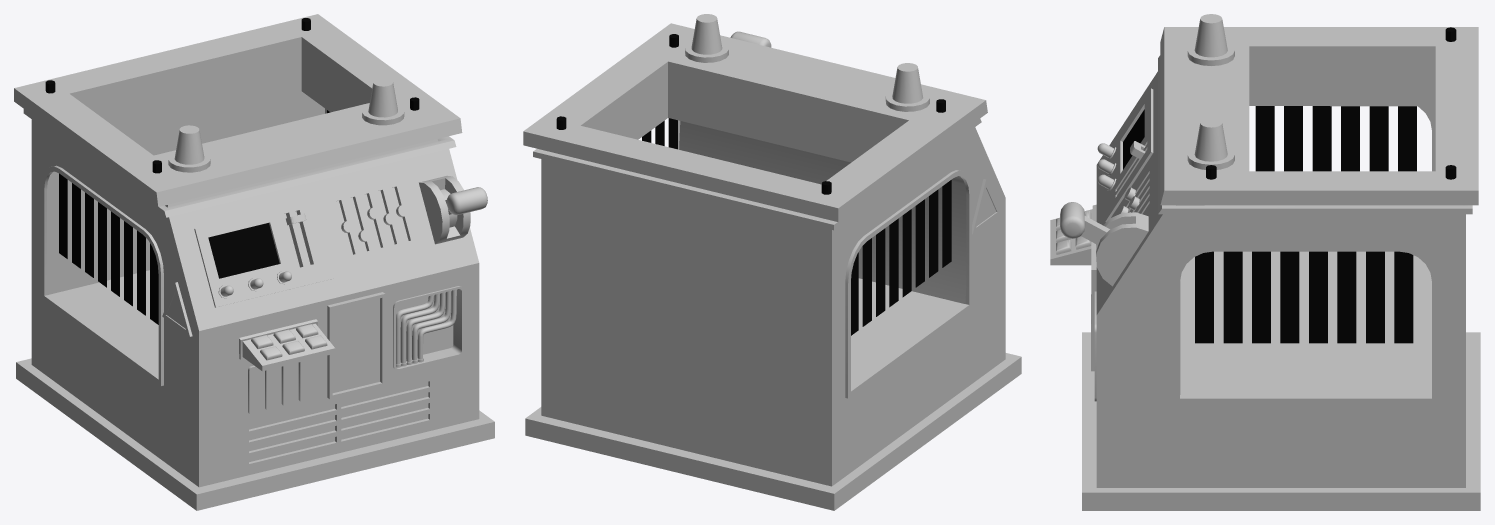
The model's file is Machn_v2_6.fbx.
3 renders of one model, left to right at view 1: azimuth 30°, elevation 25°; view 2: azimuth 150°, elevation 25°; view 3: azimuth 270°, elevation 25°, orthographic. The views are drawn at different scales.
Parts seen in each view (by area): view 1: Machn_v2_6, Plane_1.006, AlertOrange.017, AlertOrange.018, Pc_11; view 2: Machn_v2_6, Plane_1.006, AlertOrange.017, AlertOrange.018, Plane_2.006; view 3: Machn_v2_6, Plane_2.006, Plane_1.006, AlertOrange.017, AlertOrange.018, Pc_11.
Boxes of the visible parts, <box> form: Machn_v2_6: <box>14,14,494,510</box>; Plane_1.006: <box>59,173,158,324</box>; AlertOrange.017: <box>168,125,210,172</box>; AlertOrange.018: <box>362,78,404,125</box>; Pc_11: <box>445,187,487,215</box>; Machn_v2_6: <box>523,23,1021,510</box>; Plane_1.006: <box>851,180,951,335</box>; AlertOrange.017: <box>885,63,929,111</box>; AlertOrange.018: <box>685,14,728,62</box>; Plane_2.006: <box>642,118,677,149</box>; Machn_v2_6: <box>1050,27,1480,510</box>; Plane_2.006: <box>1195,251,1413,343</box>; Plane_1.006: <box>1255,106,1416,171</box>; AlertOrange.017: <box>1187,14,1234,65</box>; AlertOrange.018: <box>1187,118,1234,169</box>; Pc_11: <box>1060,202,1109,244</box>.
Bounding box in the file's own units: 268 × 275 × 298.
